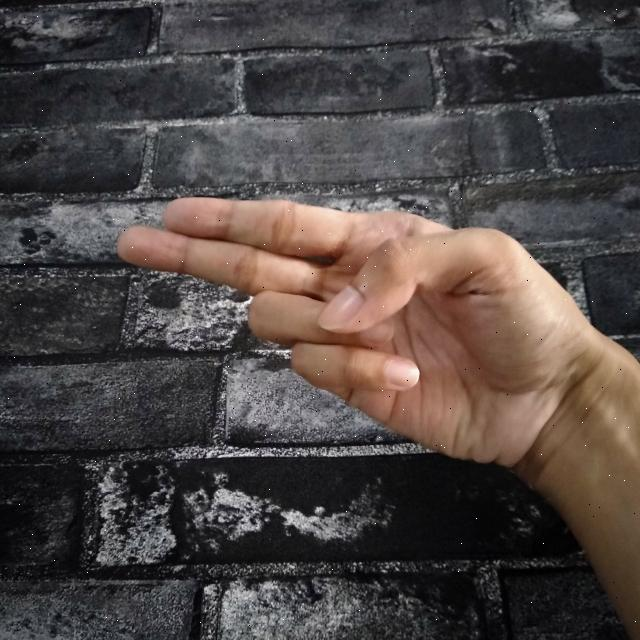H: (114, 191, 640, 640), (115, 195, 640, 640)
